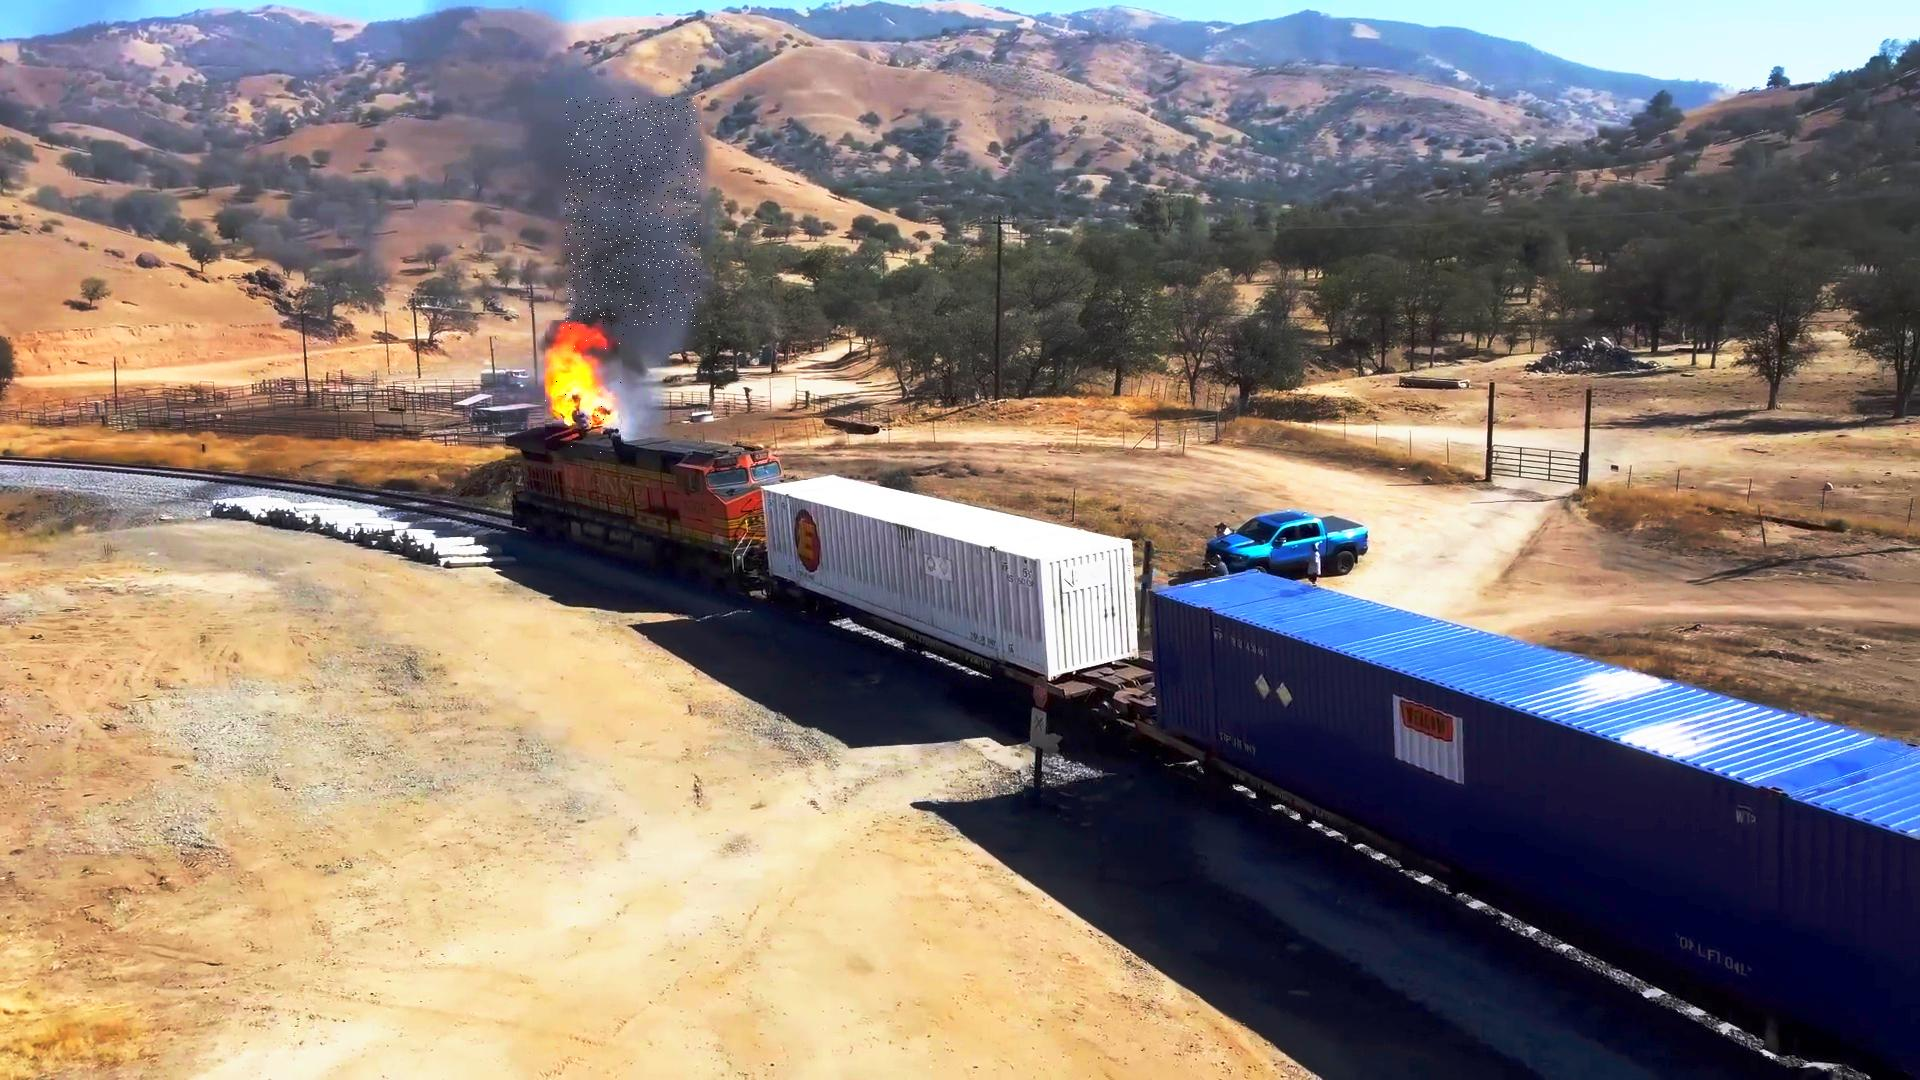fire: (566, 98, 702, 327), (546, 320, 625, 456)
